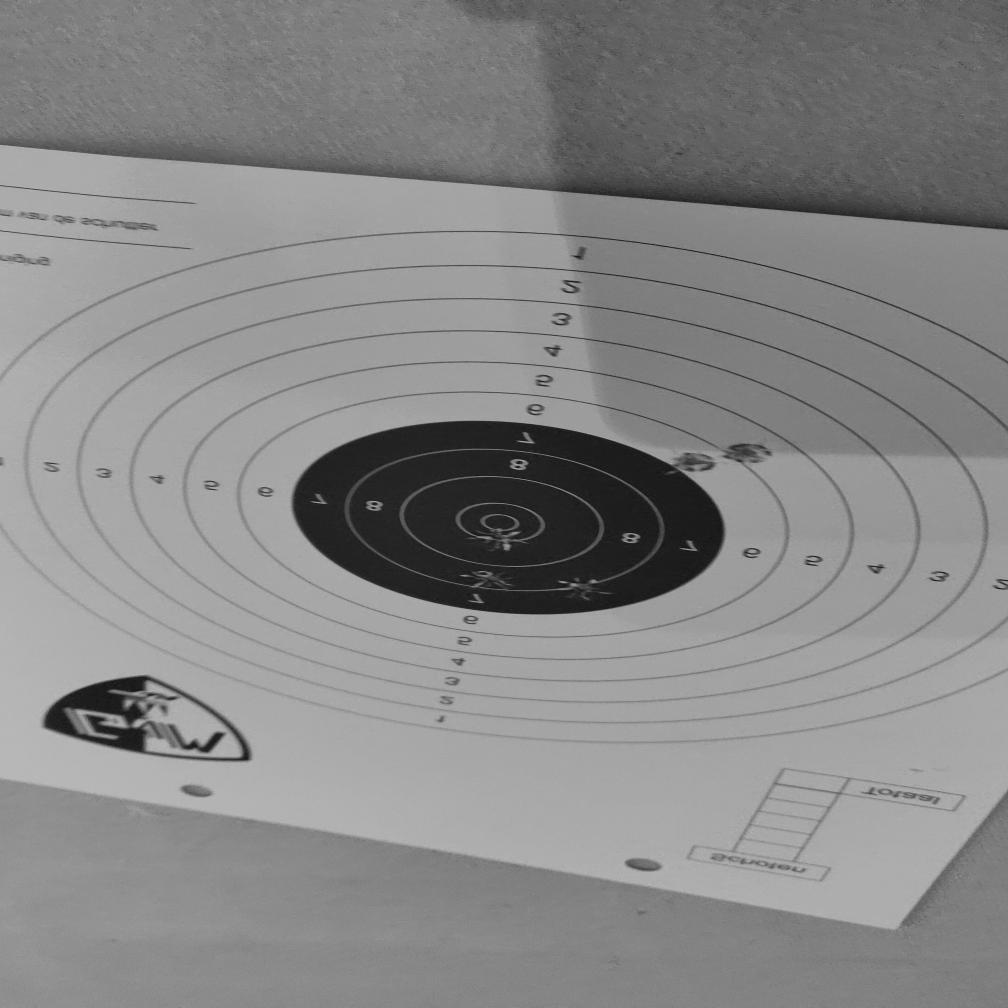10: (463, 528, 528, 553)
6: (718, 442, 774, 466)
7: (662, 452, 718, 476)
8: (548, 576, 616, 602), (457, 570, 517, 592)
Target: (0, 229, 1008, 747)
black_contour: (292, 421, 730, 615)
